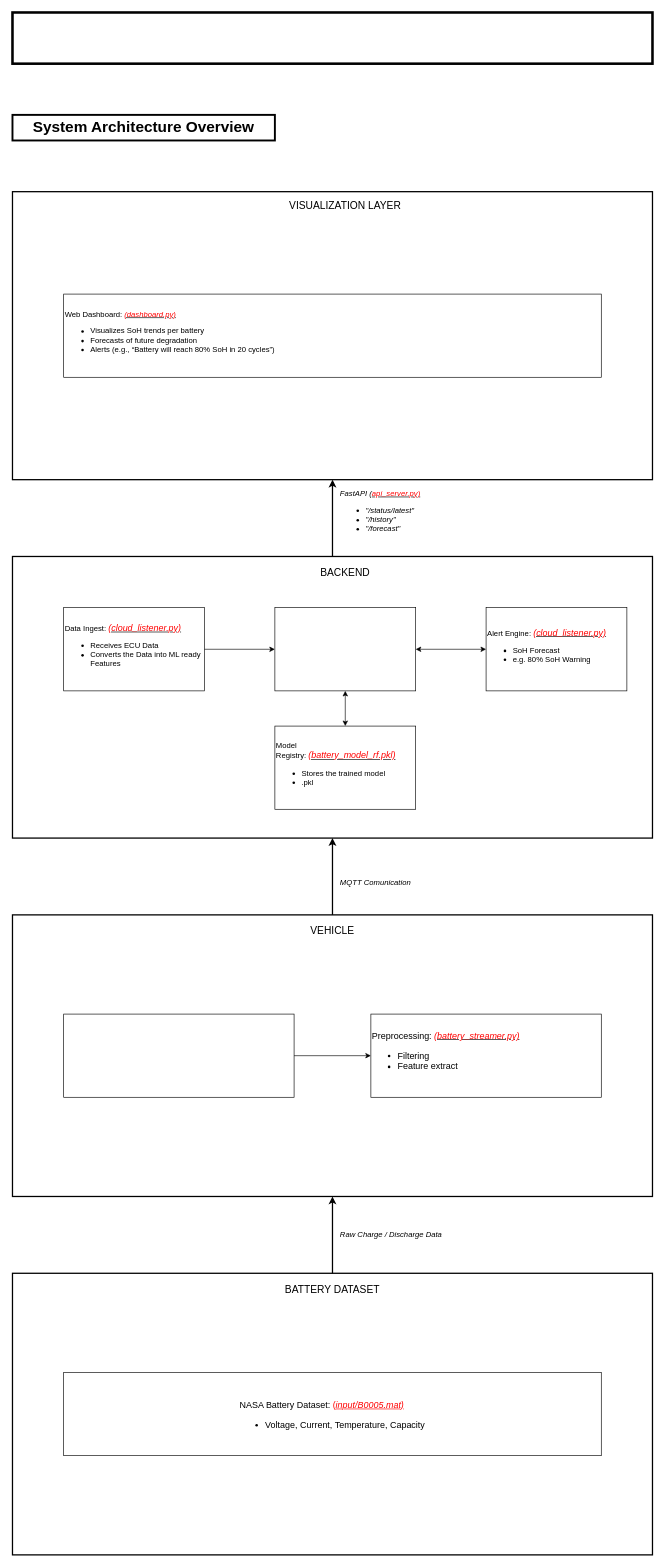
Some shapes in this 664 by 1566 pixel diagram are drawn without their labels. Each missing label, with the centre of its shape:
AI-Based State of Health (SoH) Prediction System for HV Batteries: [332,38]
ECU Simulator: (battery_streamer.py) Voltage Current Temperature: [178,1055]
ML Module: (train_model_rf.py) Random Forest Predicts SoH: [345,649]
